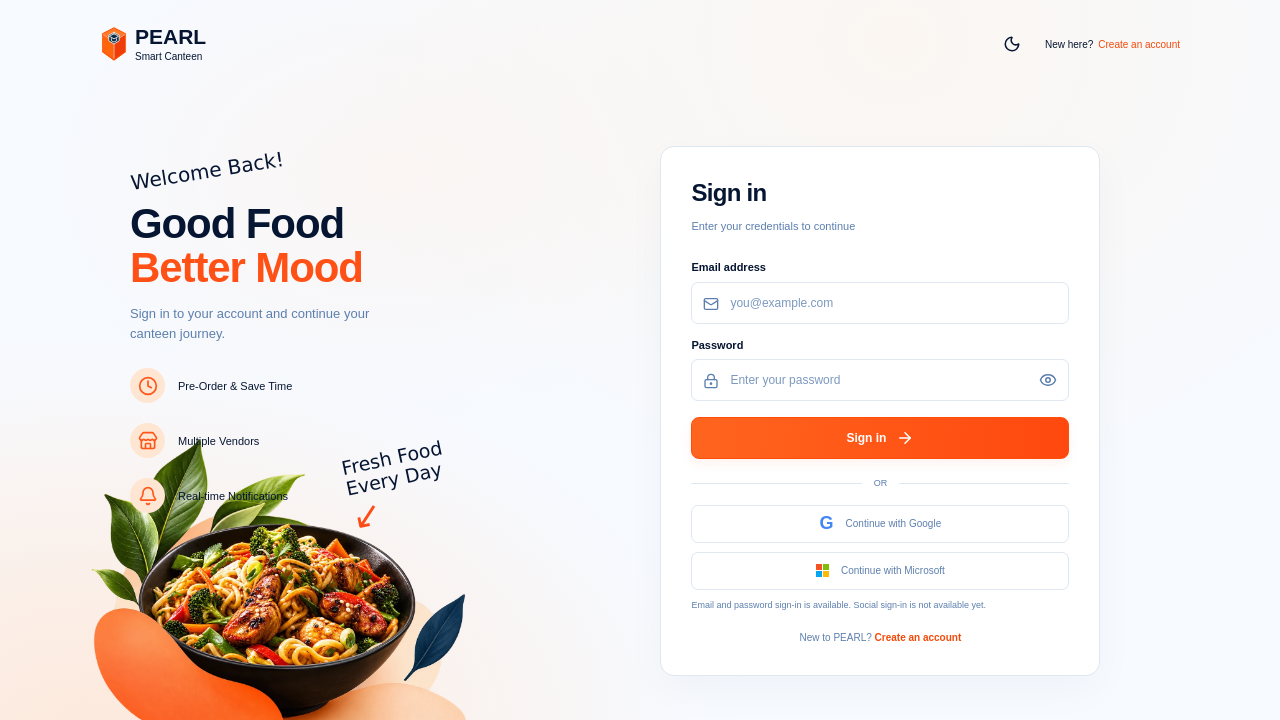
Test: login displays API errors and allows retry
In the field labelled "Email address": coordinates (880, 303) top-left (691, 282), bottom-right (1069, 324), type "owner@test.com"
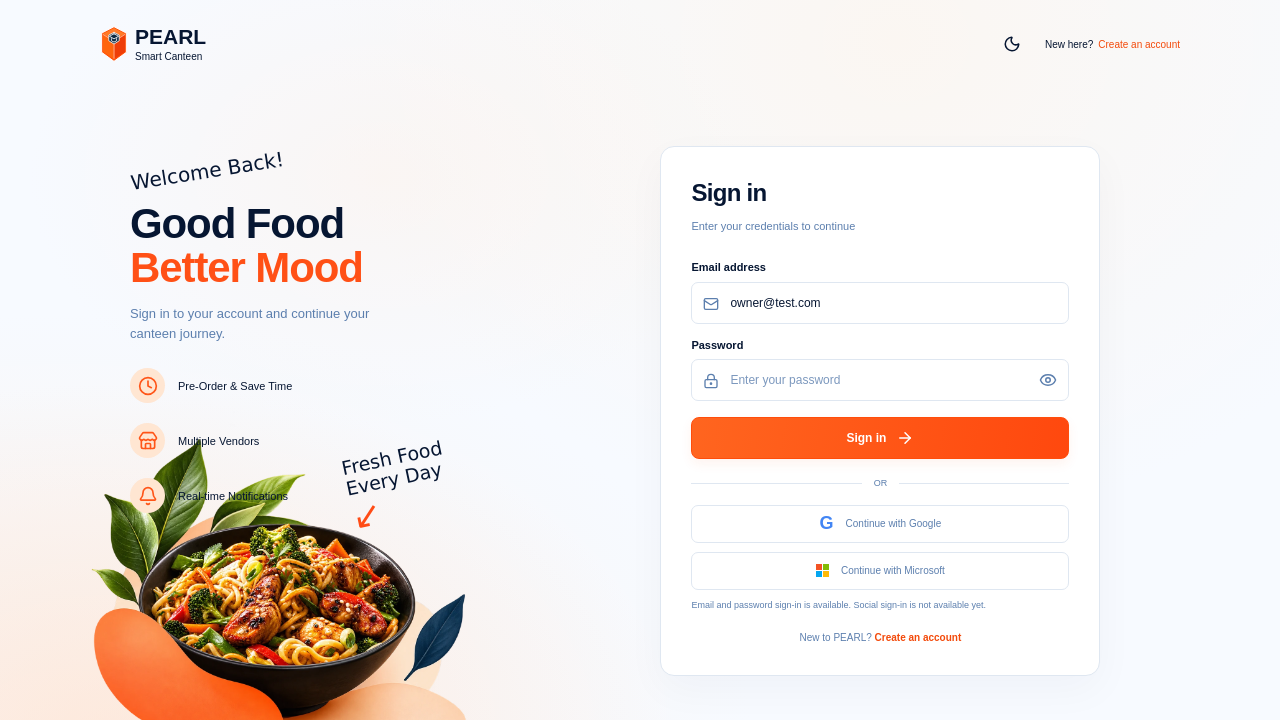
In the password field labelled "Password": coordinates (880, 380) top-left (691, 359), bottom-right (1069, 401), type "wrong"
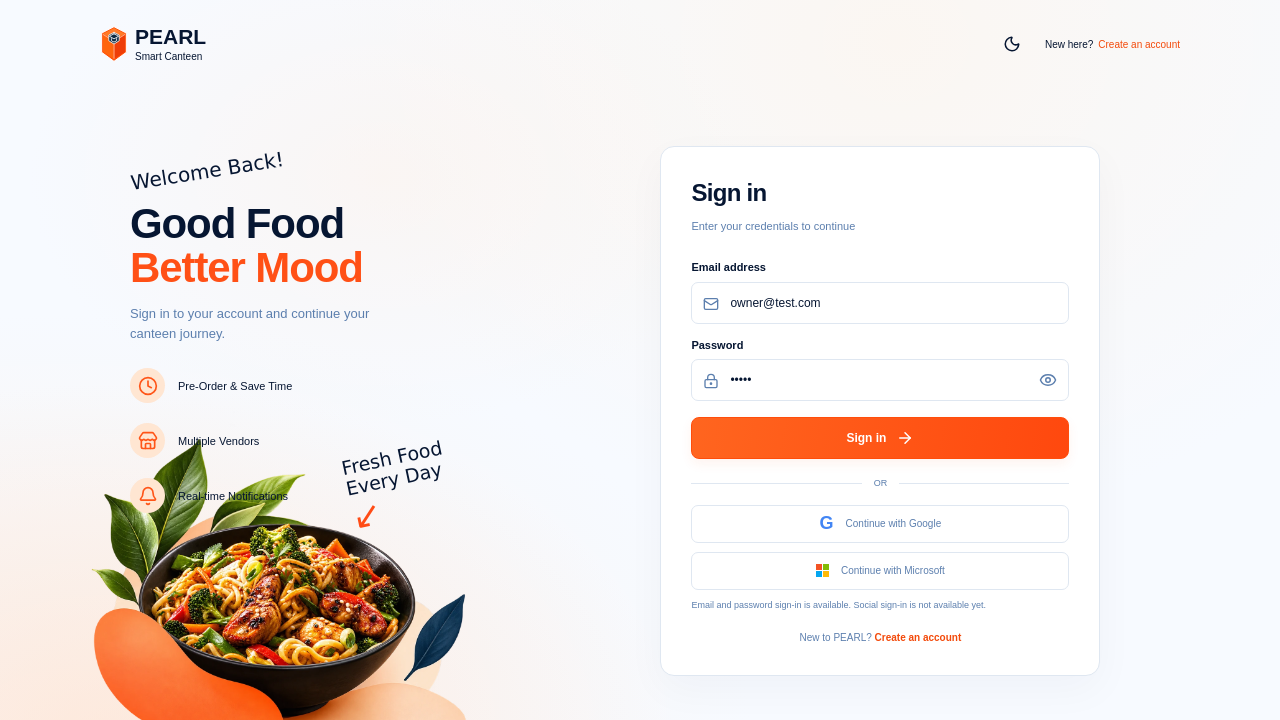
Submit the form "Sign in", box top-left (691, 259), bottom-right (1069, 647)
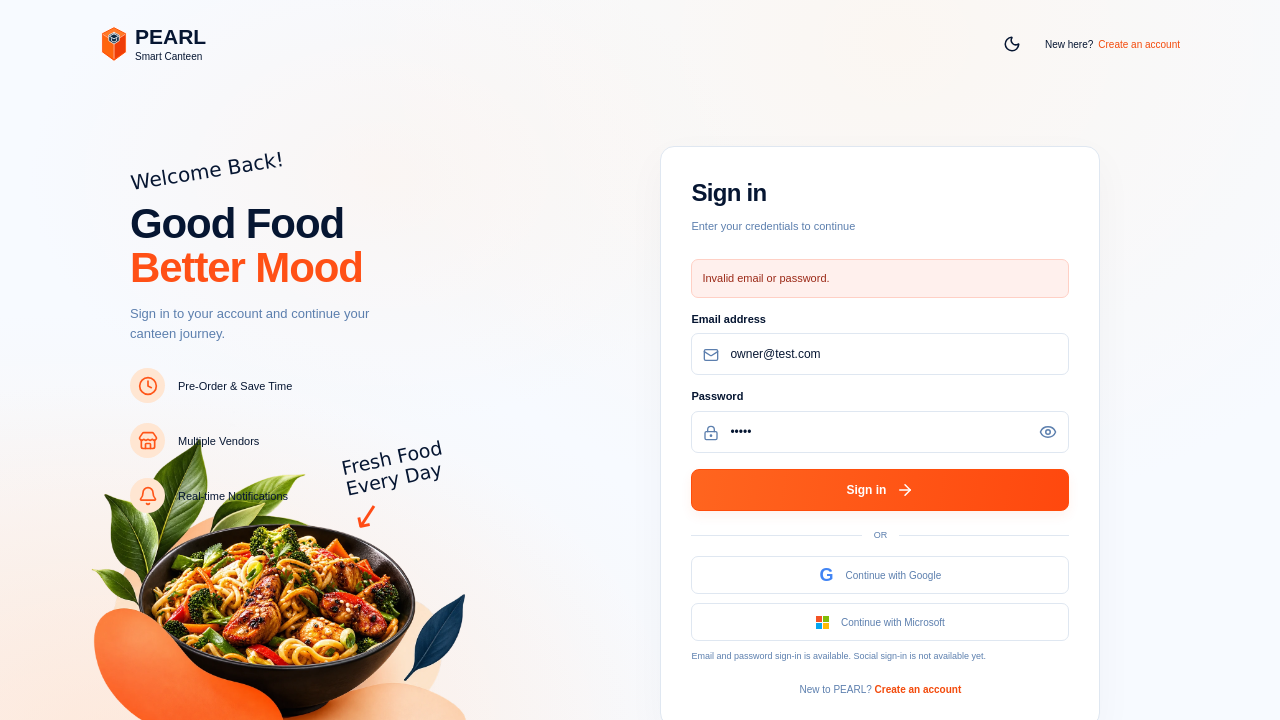
Expected: the button "Sign in" is enabled, top-left (691, 469), bottom-right (1069, 511)
Result: the message reads "Invalid email or password." at top-left (702, 272), bottom-right (830, 284)
